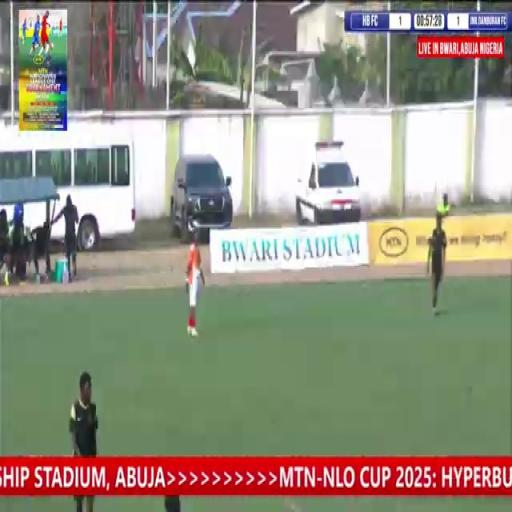team1: (183, 234, 205, 340)
team2: (65, 350, 105, 460), (426, 196, 454, 326)
